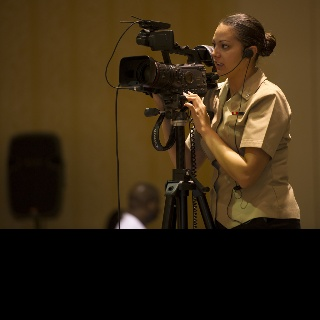without_mask: (210, 23, 245, 78)
